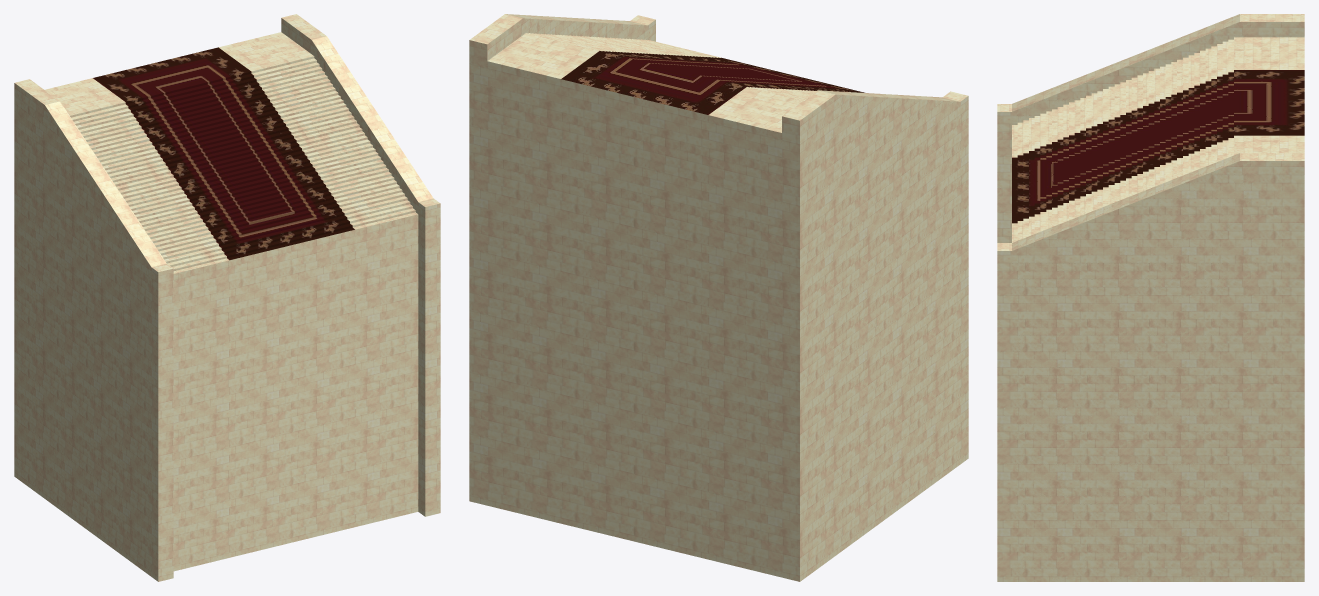
The model's file is SM_stairs_Big_carpet.glb.
The picture shows the model from 3 angles, left to right: view 1: azimuth 30°, elevation 25°; view 2: azimuth 150°, elevation 25°; view 3: azimuth 270°, elevation 25°; orthographic projection. The views are drawn at different scales.
Visible parts, largest first — view 1: SM_stairs_Big_carpet; view 2: SM_stairs_Big_carpet; view 3: SM_stairs_Big_carpet.
Boxes of the visible parts, <box> form: SM_stairs_Big_carpet: <box>14,14,440,581</box>; SM_stairs_Big_carpet: <box>469,14,968,581</box>; SM_stairs_Big_carpet: <box>997,14,1304,581</box>.
Bounding box in the file's own units: 22.44 × 29.92 × 19.82.
2 materials, 2 textured.
